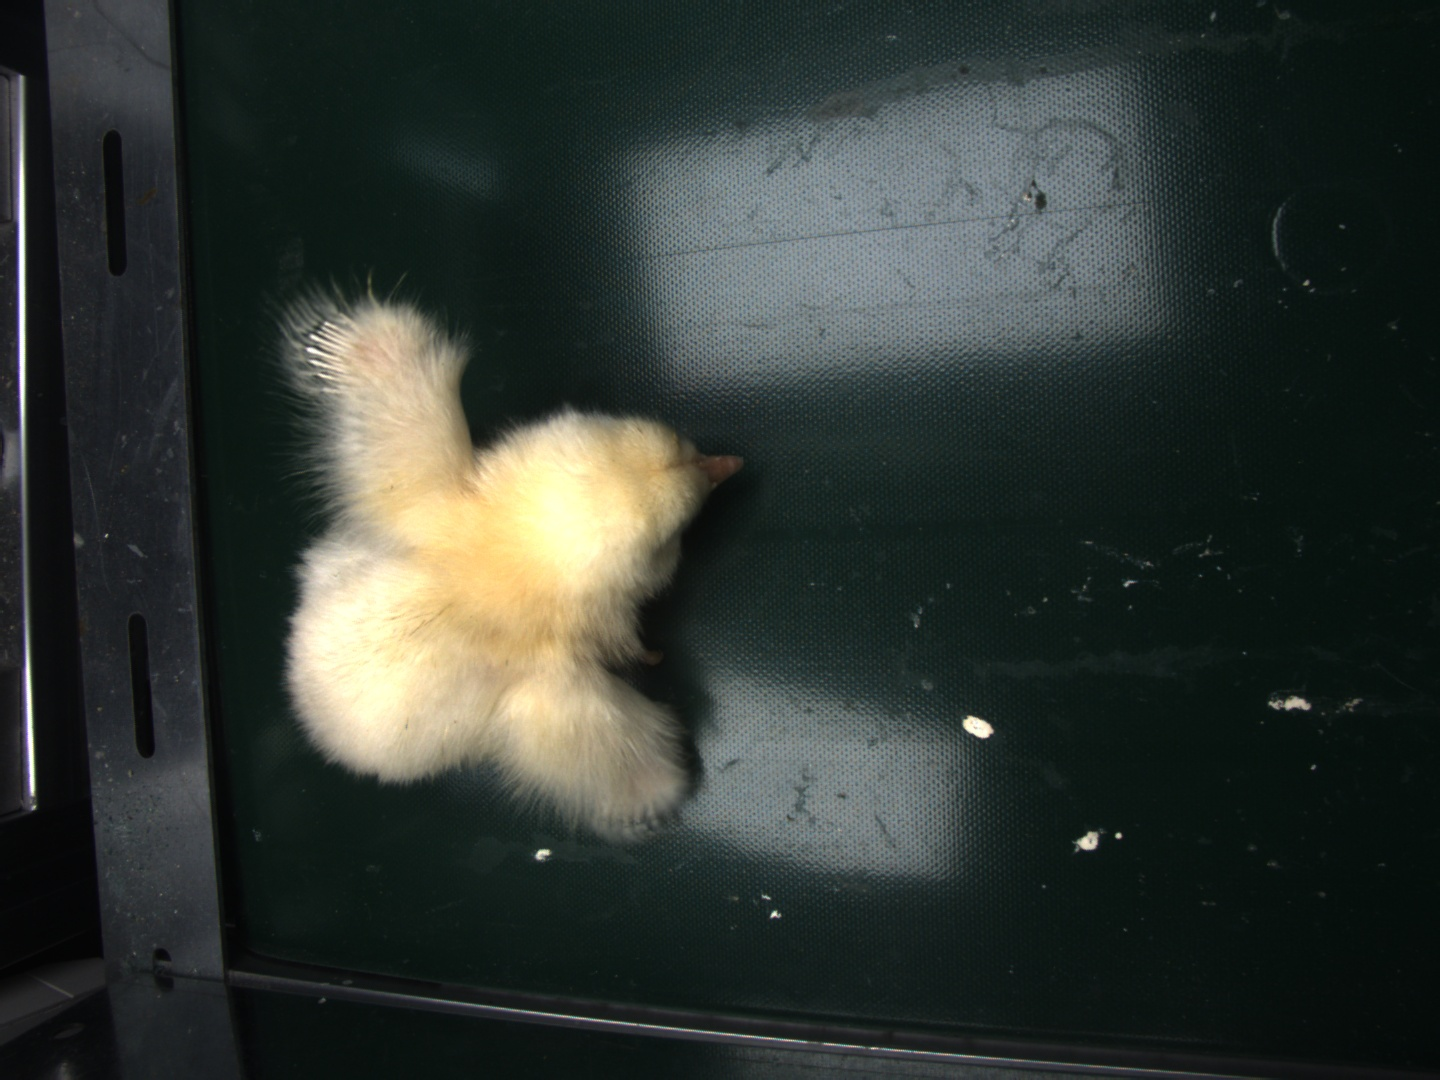male: (306, 310, 363, 389)
